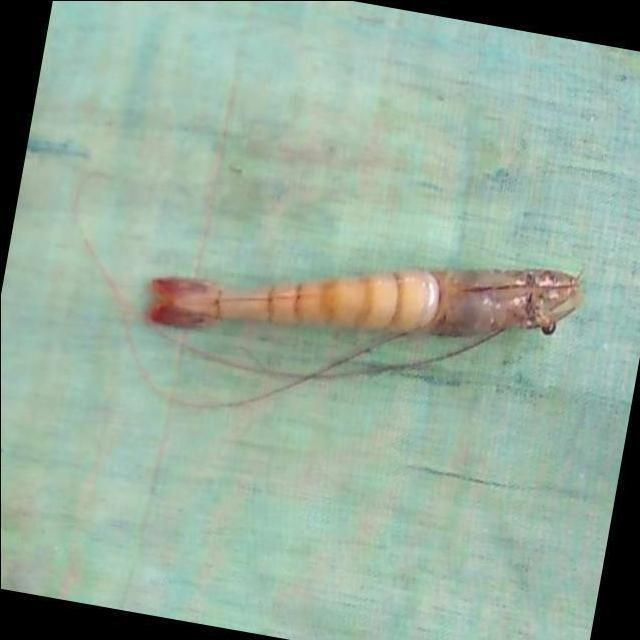shrimp: (145, 269, 581, 336)
